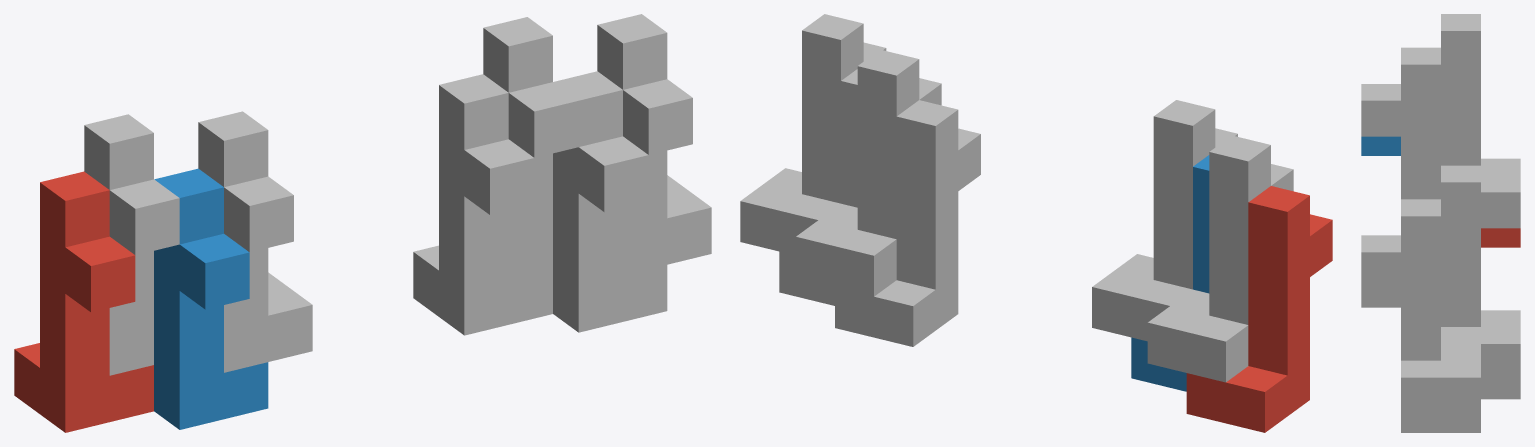
Rendered from tiling.obj.
3 renders of one model, left to right at view 1: azimuth 30°, elevation 25°; view 2: azimuth 150°, elevation 25°; view 3: azimuth 270°, elevation 25°, orthographic. The views are drawn at different scales.
Parts seen in each view (by area): view 1: copy_1_domain_5, copy_1_domain_1, copy_1_domain_2, copy_1_domain_6, copy_1_domain_8, copy_1_domain_4, copy_1_domain_3, copy_1_domain_7; view 2: copy_1_domain_5, copy_1_domain_1, copy_1_domain_3, copy_1_domain_7, copy_1_domain_4, copy_1_domain_8, copy_1_domain_6, copy_1_domain_2; view 3: copy_1_domain_8, copy_1_domain_7, copy_1_domain_3, copy_1_domain_4, copy_1_domain_6, copy_1_domain_1, copy_1_domain_2, copy_1_domain_5.
Boxes of the visible parts, <box> form: copy_1_domain_5: <box>413,74,552,335</box>; copy_1_domain_1: <box>14,171,153,432</box>; copy_1_domain_2: <box>154,168,268,429</box>; copy_1_domain_6: <box>553,71,667,332</box>; copy_1_domain_8: <box>597,14,711,275</box>; copy_1_domain_4: <box>198,111,312,372</box>; copy_1_domain_3: <box>84,114,179,375</box>; copy_1_domain_7: <box>483,17,578,278</box>; copy_1_domain_5: <box>835,100,980,346</box>; copy_1_domain_1: <box>1186,186,1332,432</box>; copy_1_domain_3: <box>1147,135,1293,382</box>; copy_1_domain_7: <box>796,49,941,296</box>; copy_1_domain_4: <box>1092,100,1237,341</box>; copy_1_domain_8: <box>740,14,886,255</box>; copy_1_domain_6: <box>779,69,857,305</box>; copy_1_domain_2: <box>1131,155,1209,391</box>; copy_1_domain_8: <box>1361,199,1480,413</box>; copy_1_domain_7: <box>1441,165,1520,379</box>; copy_1_domain_3: <box>1441,14,1520,228</box>; copy_1_domain_4: <box>1361,47,1440,199</box>; copy_1_domain_6: <box>1361,288,1480,432</box>; copy_1_domain_1: <box>1481,228,1520,247</box>; copy_1_domain_2: <box>1361,136,1400,155</box>; copy_1_domain_5: <box>1481,380,1520,399</box>.
Bounding box in the file's own units: 14 × 6 × 4.
